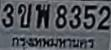2: (97, 5, 110, 29)
3: (1, 3, 13, 27), (68, 4, 80, 28)
5: (83, 5, 96, 29)
8: (55, 4, 66, 28)
A02: (17, 3, 31, 27)
A30: (35, 3, 50, 27)
BKK: (8, 34, 97, 50)
